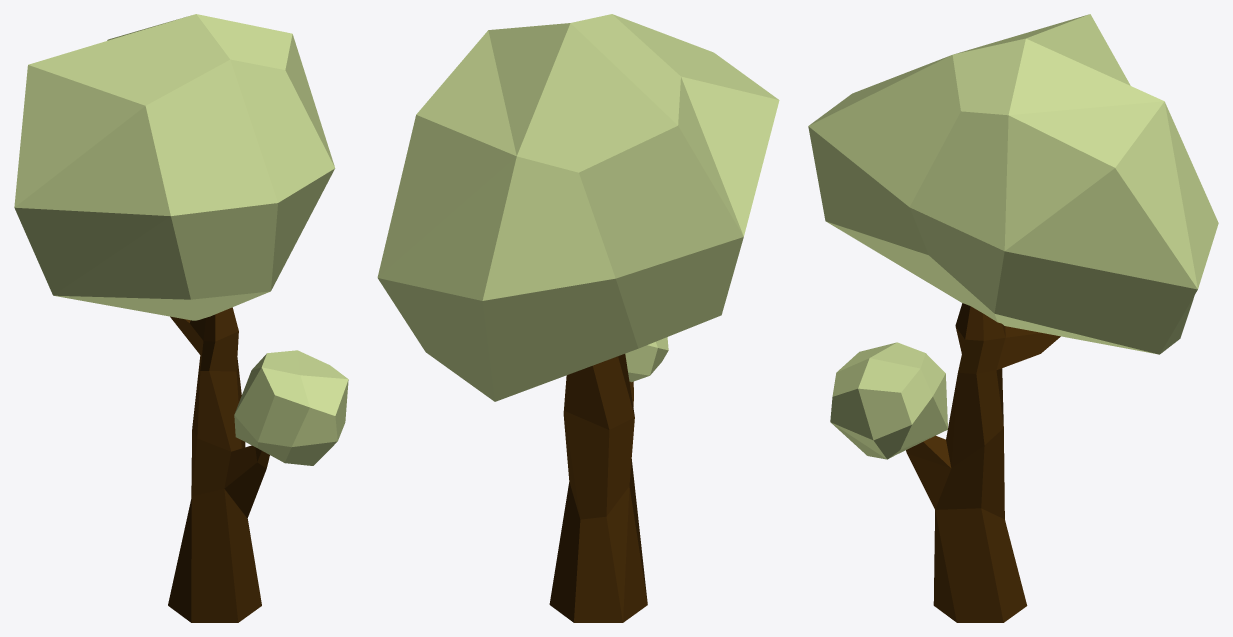
The model's file is tree3.fbx.
3 renders of one model, left to right at view 1: azimuth 30°, elevation 25°; view 2: azimuth 150°, elevation 25°; view 3: azimuth 270°, elevation 25°, orthographic. The views are drawn at different scales.
Parts seen in each view (by area): view 1: polySurface179; view 2: polySurface179; view 3: polySurface179.
Part boxes in pixels (x1,y1,x2,y2): polySurface179: (14, 14, 348, 622); polySurface179: (377, 14, 779, 622); polySurface179: (808, 14, 1218, 622).
Size of the model in its own units: 0.8193 by 1.53 by 1.
